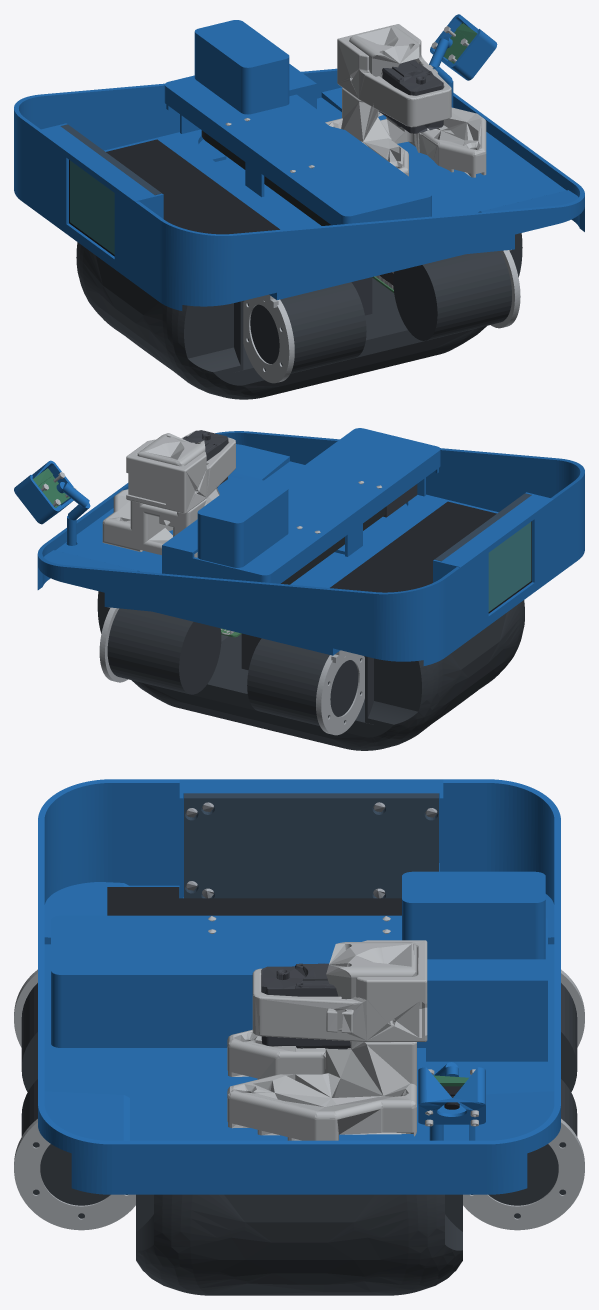
Rendered from chassis.glb.
3 views of the same model, one above another, from view 1: azimuth 30°, elevation 25°; view 2: azimuth 150°, elevation 25°; view 3: azimuth 270°, elevation 25° (orthographic). The views are drawn at different scales.
Parts seen in each view (by area): view 1: chassis_0, chassis_1, chassis_4, chassis_2, chassis_3, chassis_17, chassis_5, chassis_9, chassis_20, chassis_6, chassis_8; view 2: chassis_0, chassis_1, chassis_4, chassis_2, chassis_3, chassis_17, chassis_20, chassis_5, chassis_9, chassis_6, chassis_8; view 3: chassis_0, chassis_1, chassis_4, chassis_20, chassis_3, chassis_2, chassis_5, chassis_19.
Boxes of the visible parts, left/top/right/bottom form: chassis_0: left=14, top=14, right=584, bottom=310; chassis_1: left=76, top=225, right=522, bottom=399; chassis_4: left=325, top=24, right=486, bottom=177; chassis_2: left=106, top=139, right=279, bottom=234; chassis_3: left=225, top=26, right=520, bottom=383; chassis_17: left=70, top=160, right=114, bottom=254; chassis_5: left=378, top=59, right=443, bottom=133; chassis_9: left=201, top=130, right=330, bottom=225; chassis_20: left=61, top=124, right=161, bottom=195; chassis_6: left=444, top=22, right=477, bottom=63; chassis_8: left=243, top=277, right=372, bottom=344; chassis_0: left=14, top=428, right=584, bottom=665; chassis_1: left=97, top=484, right=524, bottom=750; chassis_4: left=102, top=431, right=235, bottom=555; chassis_2: left=330, top=501, right=496, bottom=592; chassis_3: left=41, top=472, right=381, bottom=735; chassis_17: left=488, top=522, right=531, bottom=611; chassis_20: left=435, top=493, right=531, bottom=561; chassis_5: left=182, top=430, right=228, bottom=487; chassis_9: left=281, top=507, right=385, bottom=584; chassis_6: left=33, top=468, right=69, bottom=507; chassis_8: left=241, top=633, right=261, bottom=670; chassis_0: left=38, top=779, right=560, bottom=1194; chassis_1: left=21, top=983, right=577, bottom=1295; chassis_4: left=227, top=940, right=427, bottom=1140; chassis_20: left=184, top=793, right=438, bottom=898; chassis_3: left=14, top=916, right=584, bottom=1230; chassis_2: left=107, top=887, right=401, bottom=915; chassis_5: left=261, top=963, right=350, bottom=1049; chassis_19: left=185, top=802, right=437, bottom=898.
Size of the model in its own units: 0.3248 by 0.17 by 0.262.
